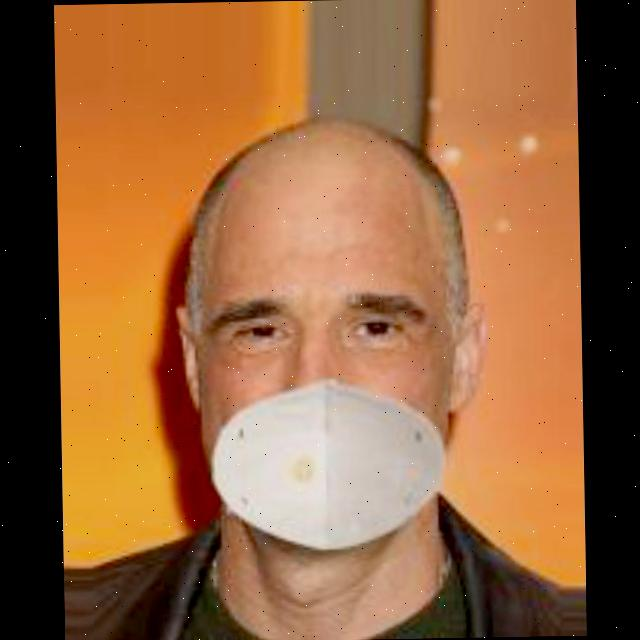suspicion: (153, 117, 476, 571)
